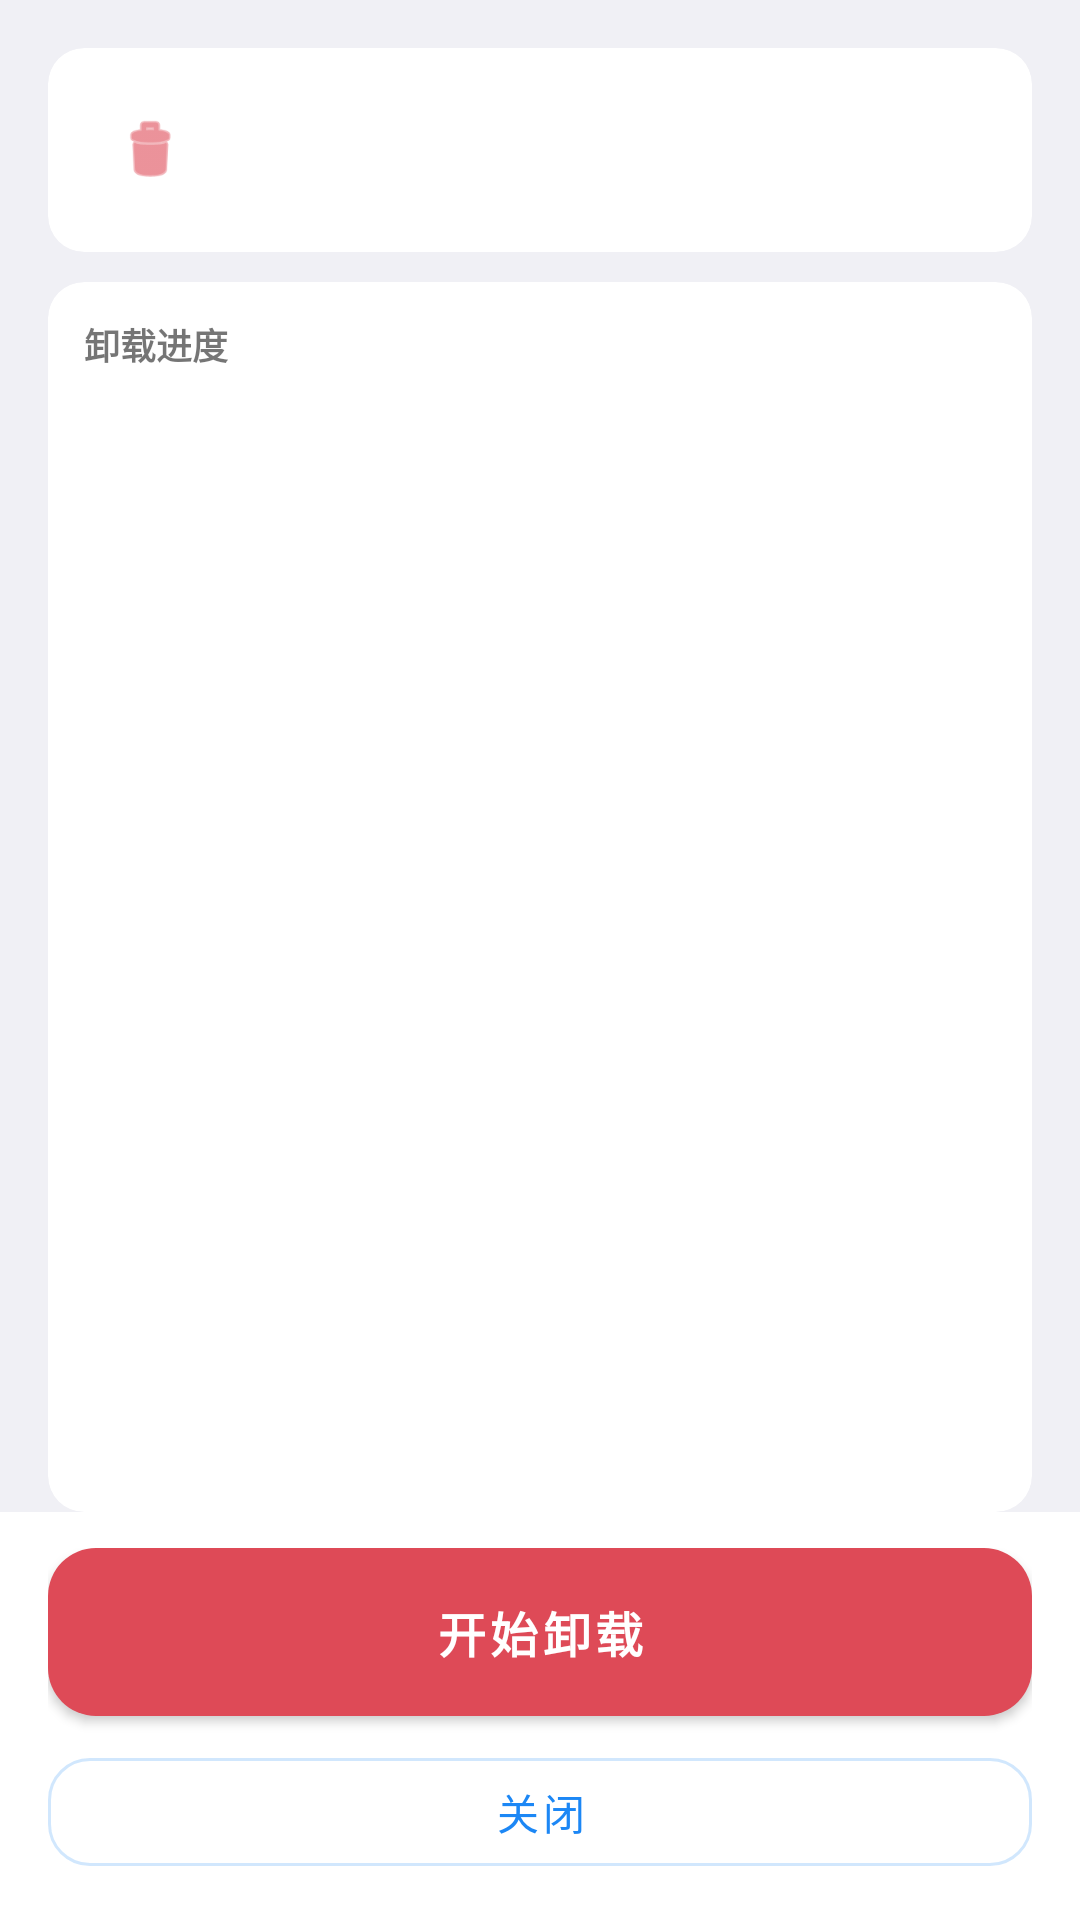

Icon bounding boxes for this 1080px×1920px phone screenshot, format [x1, y1, x2, y2]:
delete: [130, 121, 171, 177]
